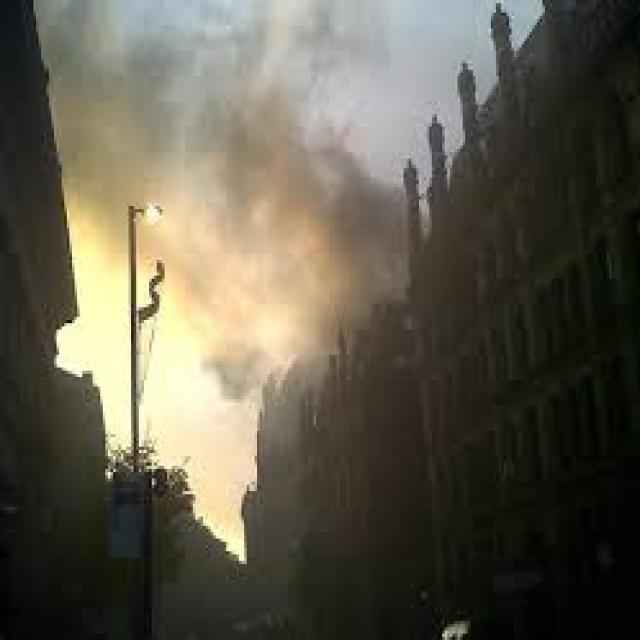Smoke: (31, 0, 417, 393)
